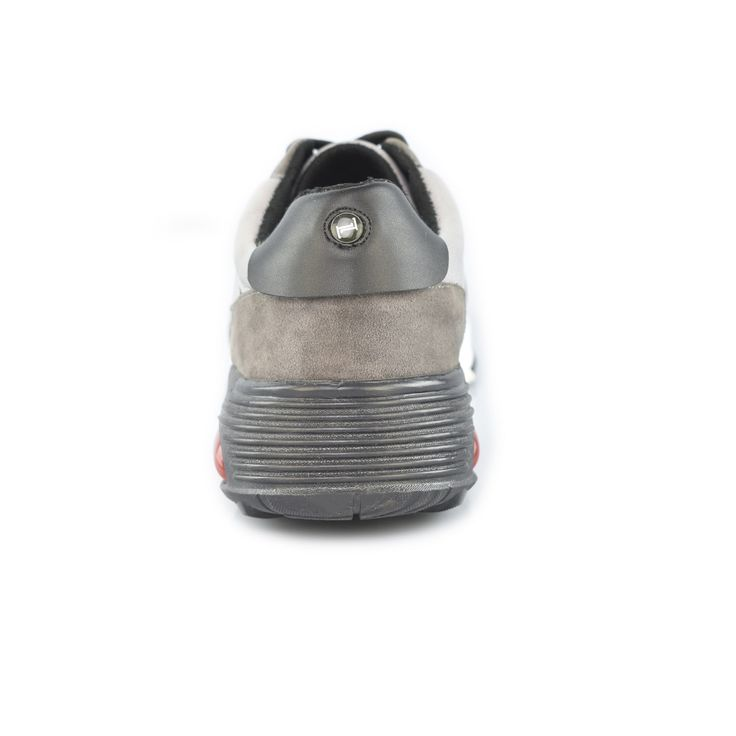gamuza: (228, 282, 471, 382)
